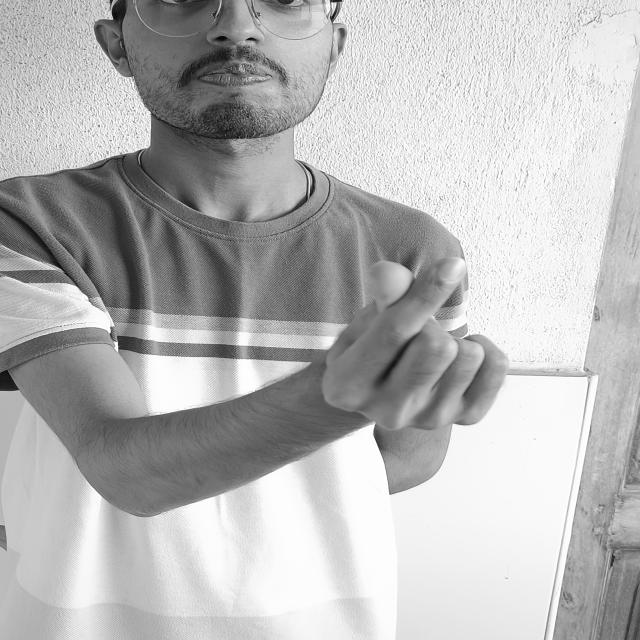Grattitude: (273, 239, 575, 465)
